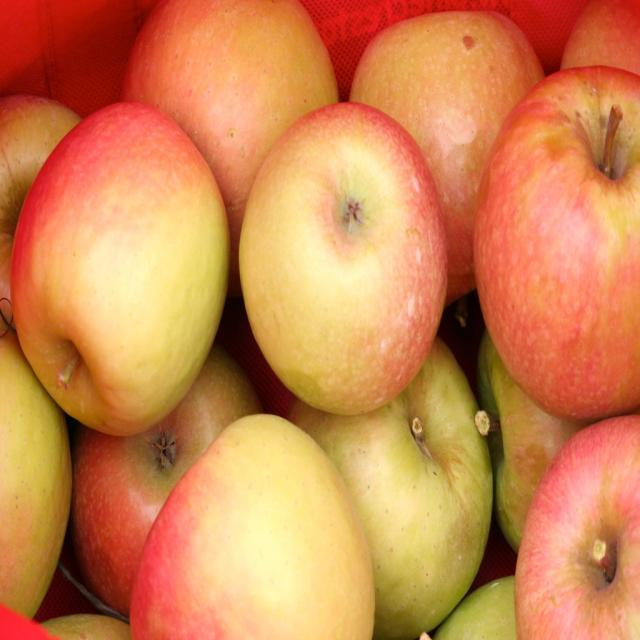Healty Apple: (0, 0, 639, 639), (238, 99, 454, 432)
